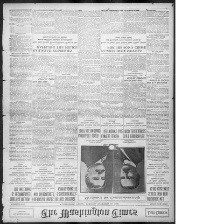news_paper: (0, 1, 175, 223)
